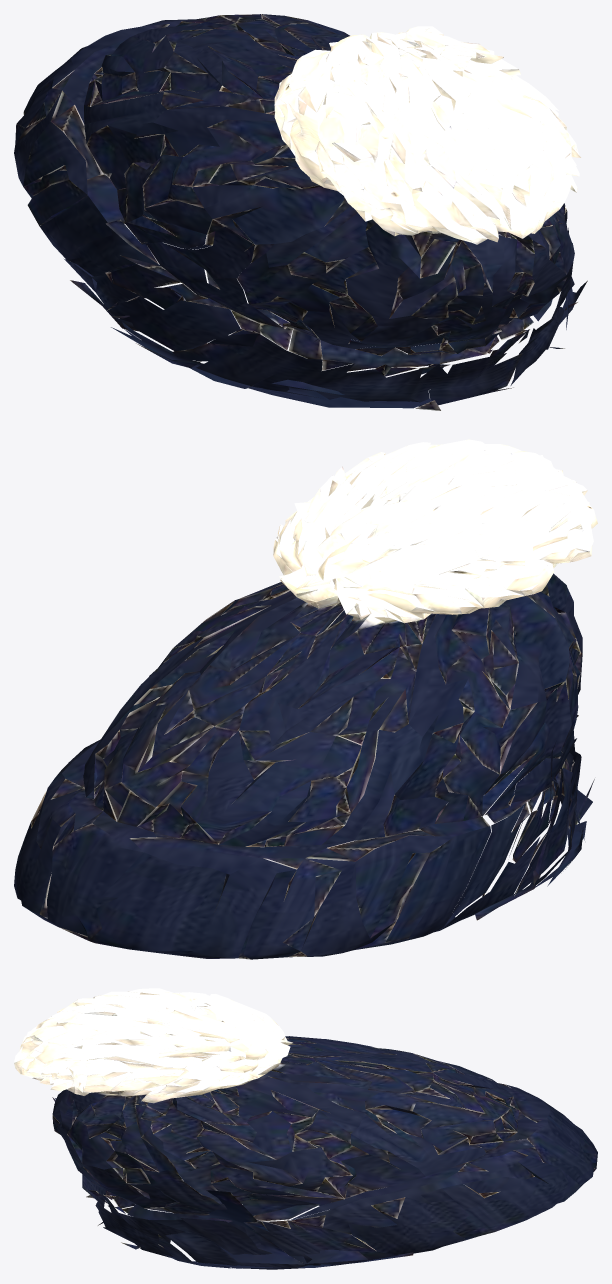
File: acc_beanie_f.glb
3 views of the same model, one above another, from view 1: azimuth 30°, elevation 25°; view 2: azimuth 150°, elevation 25°; view 3: azimuth 270°, elevation 25° (orthographic). The views are drawn at different scales.
Visible parts, largest first — view 1: acc; view 2: acc; view 3: acc.
Boxes of the visible parts, bbox=[...] form: acc: bbox=[14, 14, 587, 410]; acc: bbox=[14, 439, 597, 959]; acc: bbox=[14, 988, 597, 1269].
Bounding box in the file's own units: 0.2018 × 0.1284 × 0.3243.
1 material, 1 textured.
